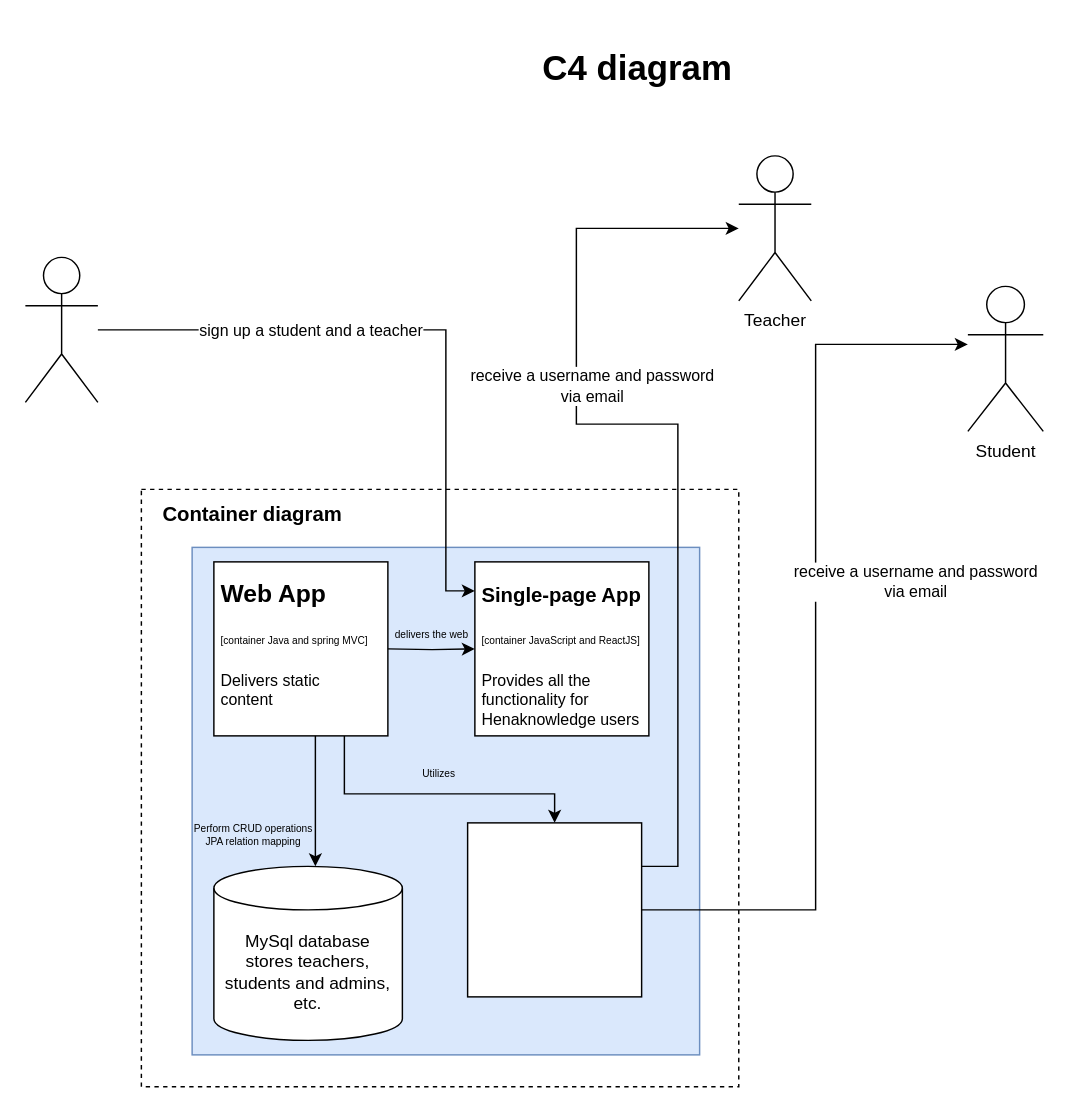
Image size: 1069x1112. Some labels were removed from this diagram. Each missing label, with the centre of its shape:
Admin: the point at 61,329
Emailing service Sends email using SMTP: the point at 554,909
